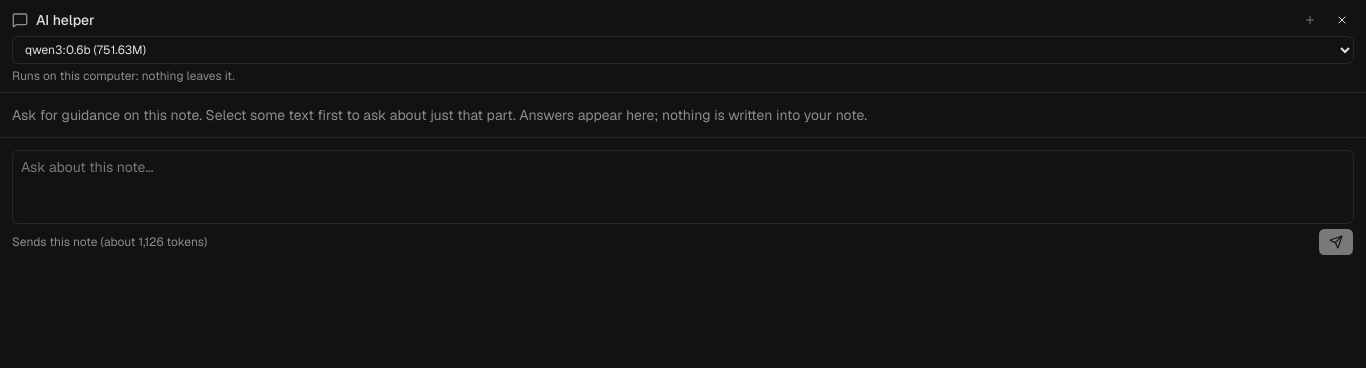
Test: AssistantPanel › the size of what is sent › warns when the server says it dropped part of the conversation
This screenshot has width=1366, height=368.
Type "hi" into the text box labelled "Ask about this note" at (683, 187), box top-left (12, 150), bottom-right (1354, 224)
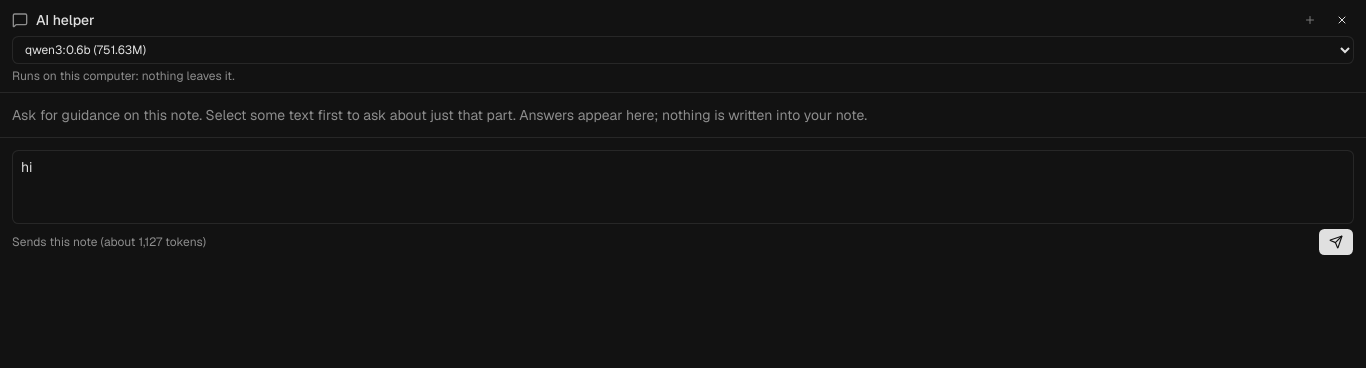
Press Enter in the text box named "Ask about this note", box top-left (12, 150), bottom-right (1354, 224)
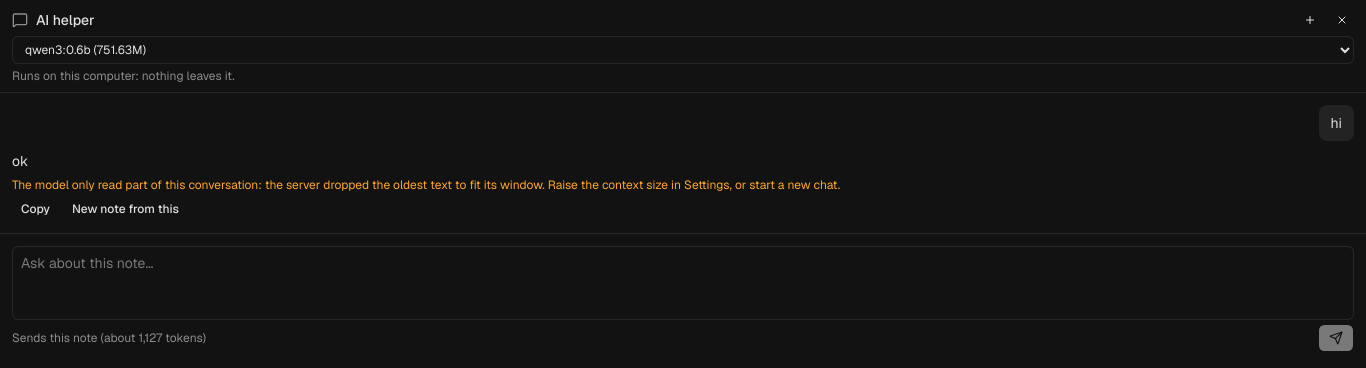
Expected: the text "only read part" is shown, top-left (12, 177), bottom-right (840, 193)
